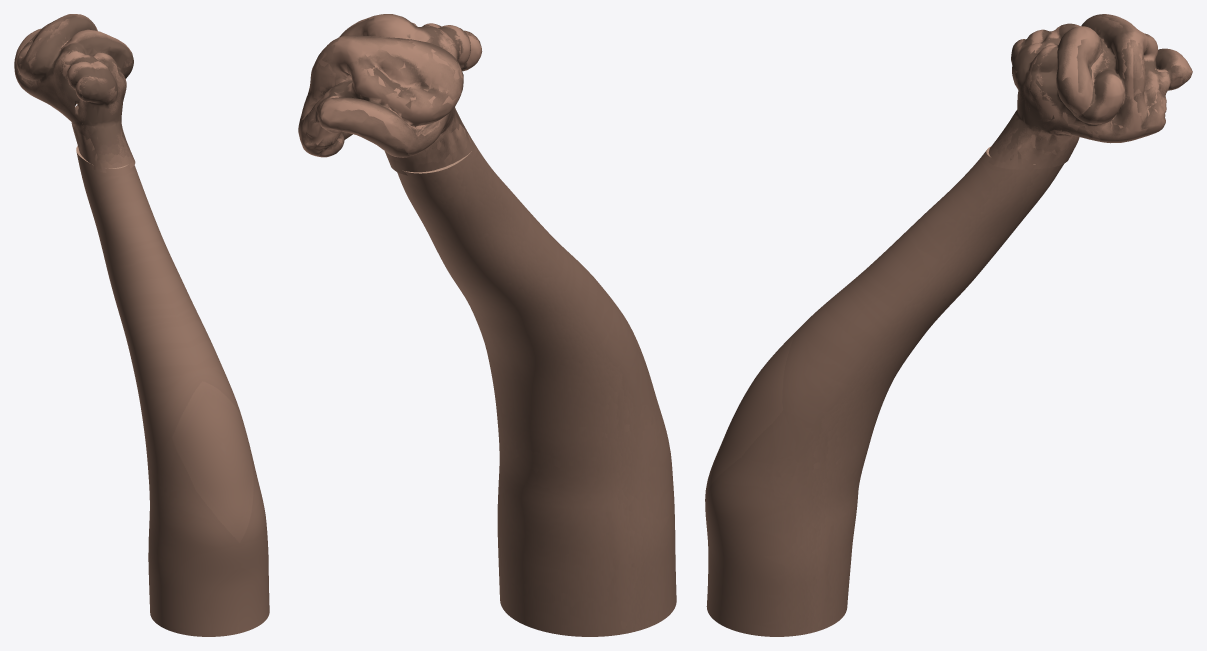
The model's file is right_arm.glb.
The picture shows the model from 3 angles, left to right: view 1: azimuth 30°, elevation 25°; view 2: azimuth 150°, elevation 25°; view 3: azimuth 270°, elevation 25°; orthographic projection. The views are drawn at different scales.
Parts seen in each view (by area): view 1: Arm_forearm_skin, Arm_skin; view 2: Arm_forearm_skin, Arm_skin; view 3: Arm_forearm_skin, Arm_skin.
Part boxes in pixels (x1,y1,x2,y2): Arm_forearm_skin: [76, 152, 269, 636]; Arm_skin: [14, 14, 135, 172]; Arm_forearm_skin: [397, 148, 676, 636]; Arm_skin: [298, 14, 482, 175]; Arm_forearm_skin: [705, 150, 1064, 636]; Arm_skin: [988, 14, 1192, 169].
Bounding box in the file's own units: 0.094 × 0.42 × 0.3192.
3 materials, 2 textured.
